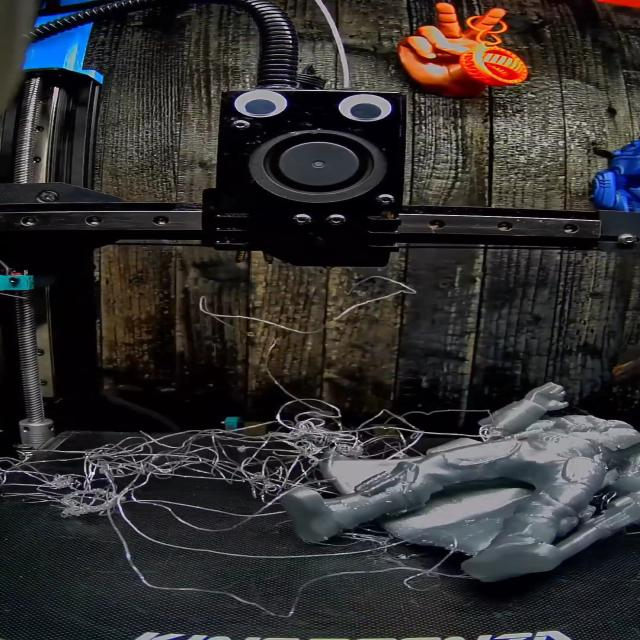spaghetti: (18, 382, 449, 527)
